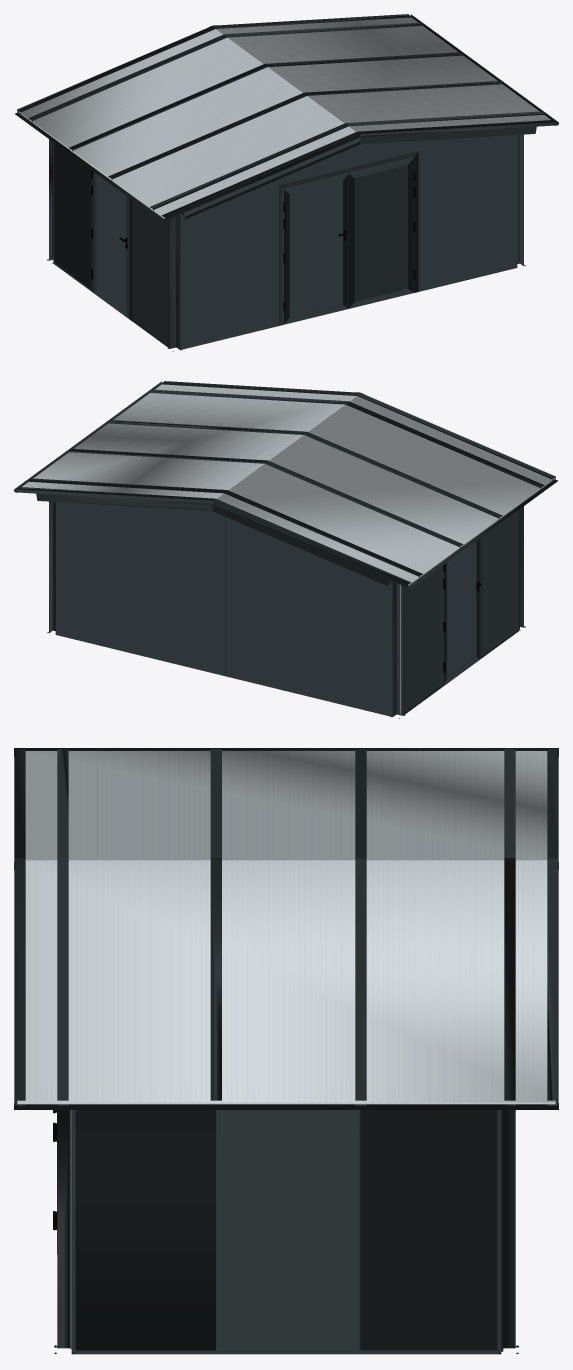
3 renders of one model, top to bottom at view 1: azimuth 30°, elevation 25°; view 2: azimuth 150°, elevation 25°; view 3: azimuth 270°, elevation 25°, orthographic. The views are drawn at different scales.
Visible parts, largest first — view 1: priximbattable_net_abris_de_voiture_640014_garage_polycarbon, folha_2, folha_3, folha, porta_dupla, porta; view 2: priximbattable_net_abris_de_voiture_640014_garage_polycarbon, folha, porta; view 3: priximbattable_net_abris_de_voiture_640014_garage_polycarbon.
Part boxes in pixels (x1,y1,x2,y2): priximbattable_net_abris_de_voiture_640014_garage_polycarbon: [15, 14, 558, 351]; folha_2: [348, 157, 415, 308]; folha_3: [283, 173, 348, 324]; folha: [91, 170, 129, 319]; porta_dupla: [278, 151, 418, 325]; porta: [90, 170, 132, 321]; priximbattable_net_abris_de_voiture_640014_garage_polycarbon: [14, 381, 557, 718]; folha: [443, 538, 479, 686]; porta: [440, 537, 482, 687]; priximbattable_net_abris_de_voiture_640014_garage_polycarbon: [14, 748, 558, 1354].
Size of the model in its own units: 589 by 261 by 380.
1 material, 1 textured.
